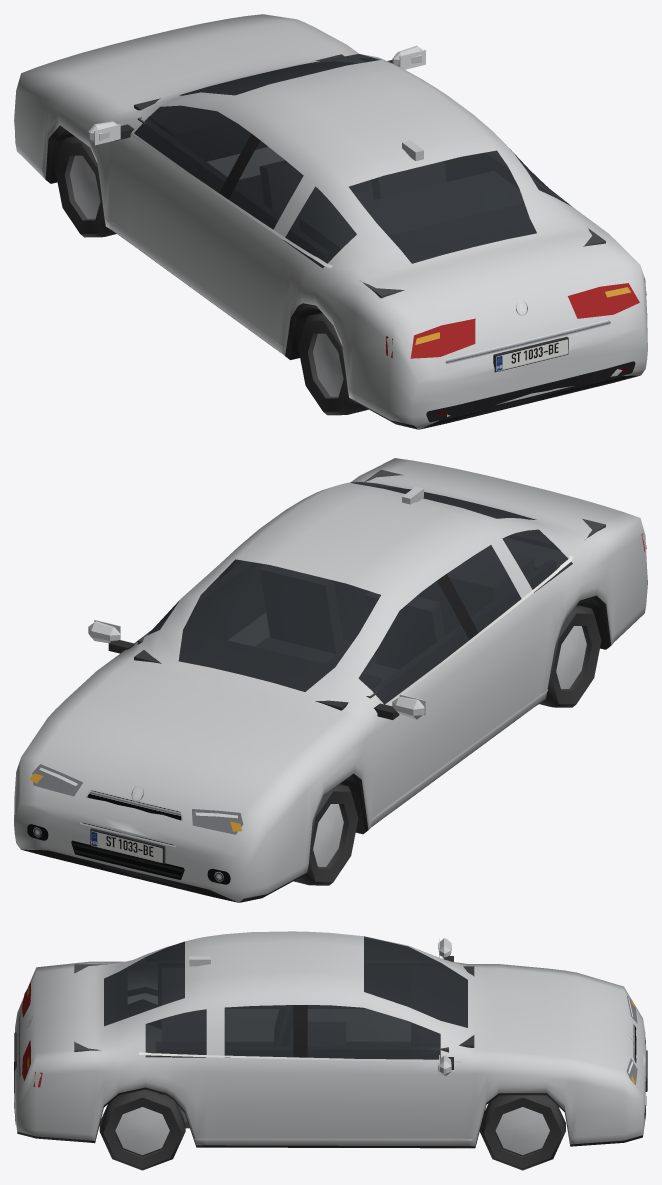
Rendered from benzer_lod1.glb.
3 renders of one model, top to bottom at view 1: azimuth 30°, elevation 25°; view 2: azimuth 150°, elevation 25°; view 3: azimuth 270°, elevation 25°, orthographic. The views are drawn at different scales.
Parts seen in each view (by area): view 1: body, wheelmesh_2, wheelmesh_0; view 2: body, wheelmesh_2, wheelmesh_0; view 3: body, wheelmesh_3, wheelmesh_1, wheelmesh_2.
Part boxes in pixels (x1,y1,x2,y2): body: (14,14,647,429); wheelmesh_2: (298,312,368,415); wheelmesh_0: (55,136,116,237); body: (14,458,647,902); wheelmesh_2: (539,605,601,707); wheelmesh_0: (293,784,358,885); body: (14,931,647,1148); wheelmesh_3: (99,1089,185,1170); wheelmesh_1: (479,1095,565,1170); wheelmesh_2: (128,1000,161,1056).
Bounding box in the file's own units: 2.39 × 1.45 × 5.01.
18 materials, 1 textured.
